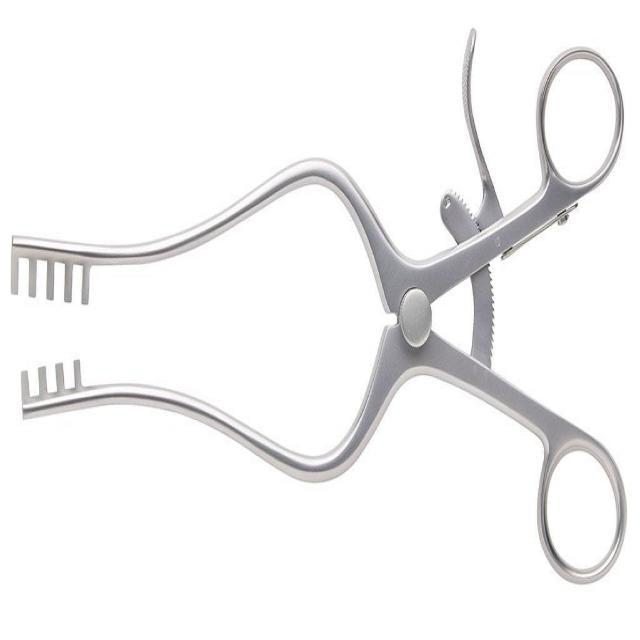Weitlaner: (7, 26, 630, 596)
